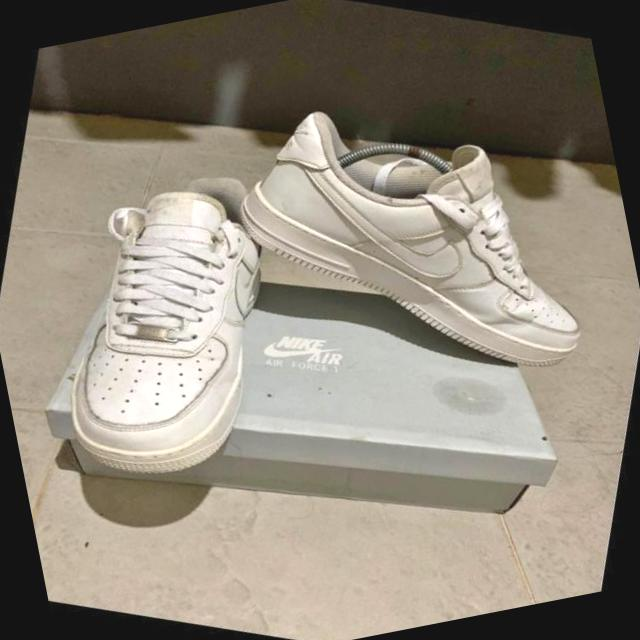nike_fake_airforce: (182, 35, 640, 439), (5, 128, 328, 522)
